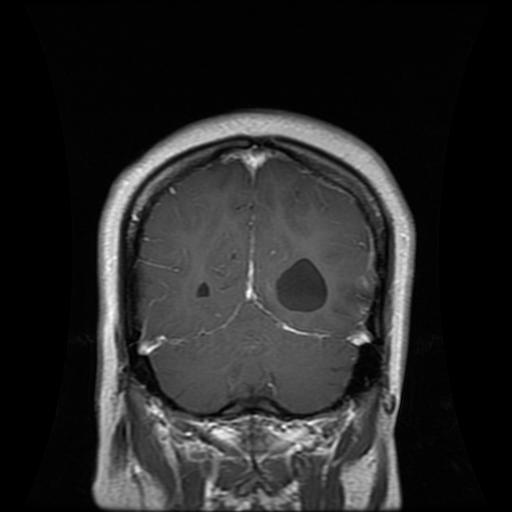Gliomia_tumour: (277, 257, 327, 310)
